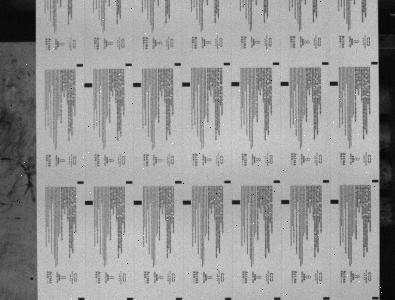qblock: (280, 81, 289, 86), (329, 81, 338, 86), (133, 200, 142, 205), (182, 200, 191, 205), (330, 199, 339, 204), (182, 82, 190, 87), (133, 82, 141, 87), (85, 200, 93, 205), (281, 200, 290, 204), (84, 83, 92, 87), (231, 82, 239, 86), (232, 200, 240, 204)
smallqblock: (174, 296, 182, 300), (77, 296, 84, 300), (224, 62, 231, 66), (224, 296, 231, 300), (126, 180, 133, 184), (175, 180, 182, 184), (371, 61, 378, 65), (126, 296, 133, 300), (273, 180, 281, 183), (174, 63, 181, 66), (76, 64, 83, 67), (125, 63, 132, 66), (273, 62, 280, 65), (274, 297, 281, 300), (323, 297, 330, 300), (322, 62, 329, 65), (224, 180, 231, 183), (77, 181, 84, 184), (323, 180, 330, 183), (372, 296, 379, 299), (372, 179, 379, 182)
